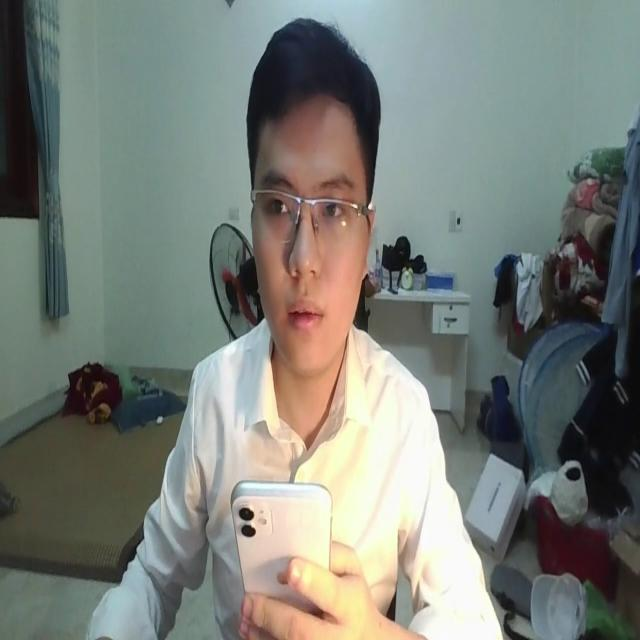phone: (229, 469, 332, 602)
student: (90, 19, 499, 640)
